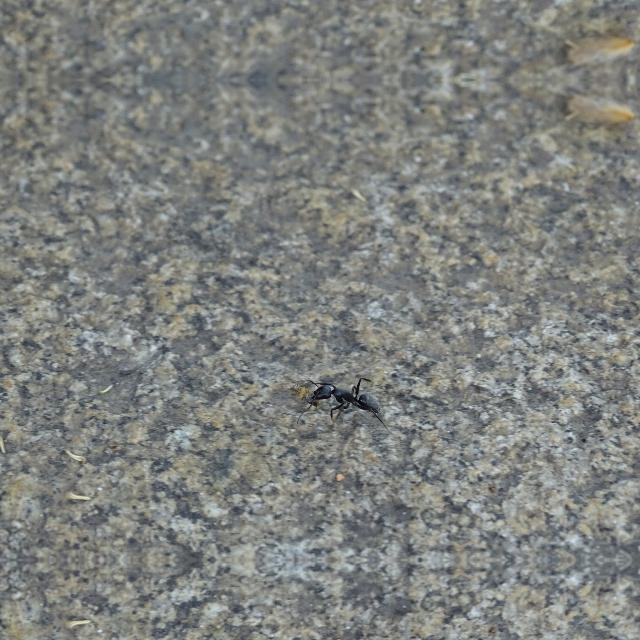Camponotus: (294, 366, 400, 426)
